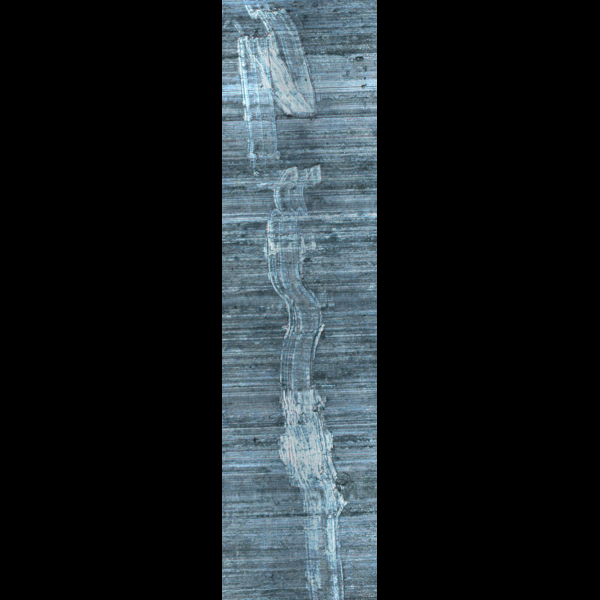d: (231, 3, 355, 600)
